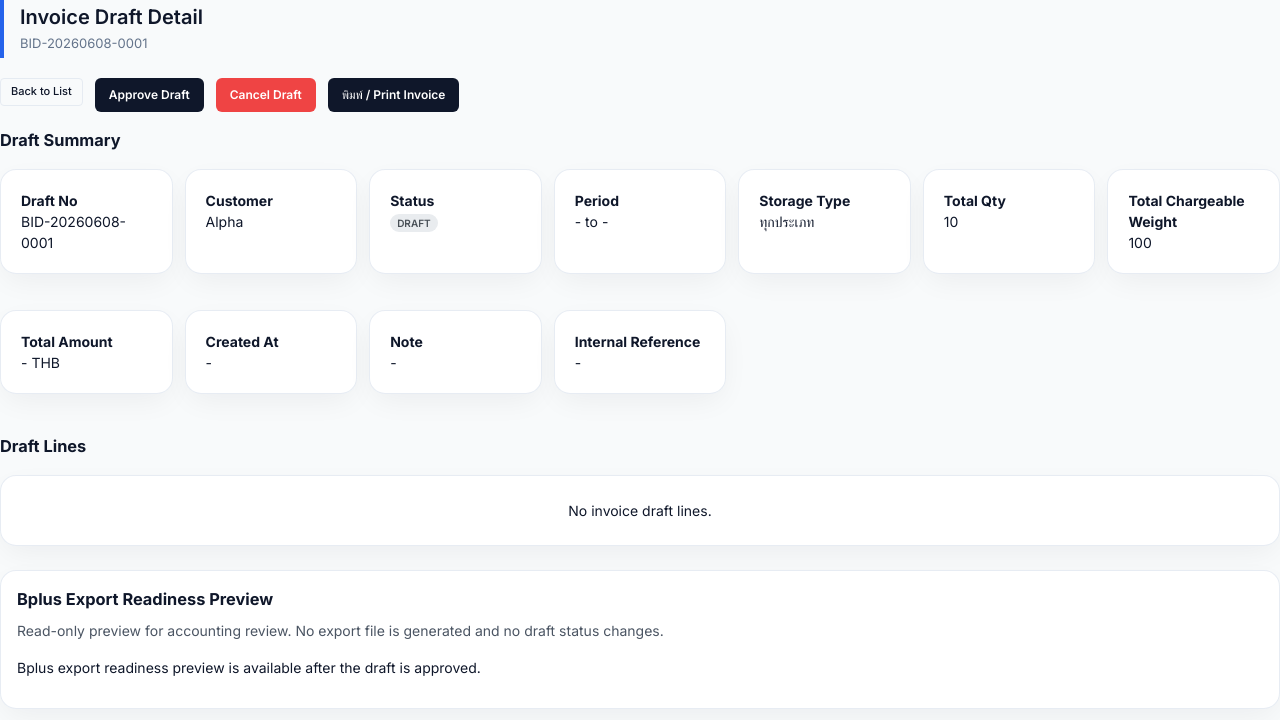
Test: Gate 3B-2 billing invoice draft UI › approves after confirmation, refreshes detail, and becomes read-only
The width and height of the screenshot is (1280, 720).
Click the button with test id "invoice-draft-approve-button": (149, 94) x1=95 y1=78 x2=204 y2=112
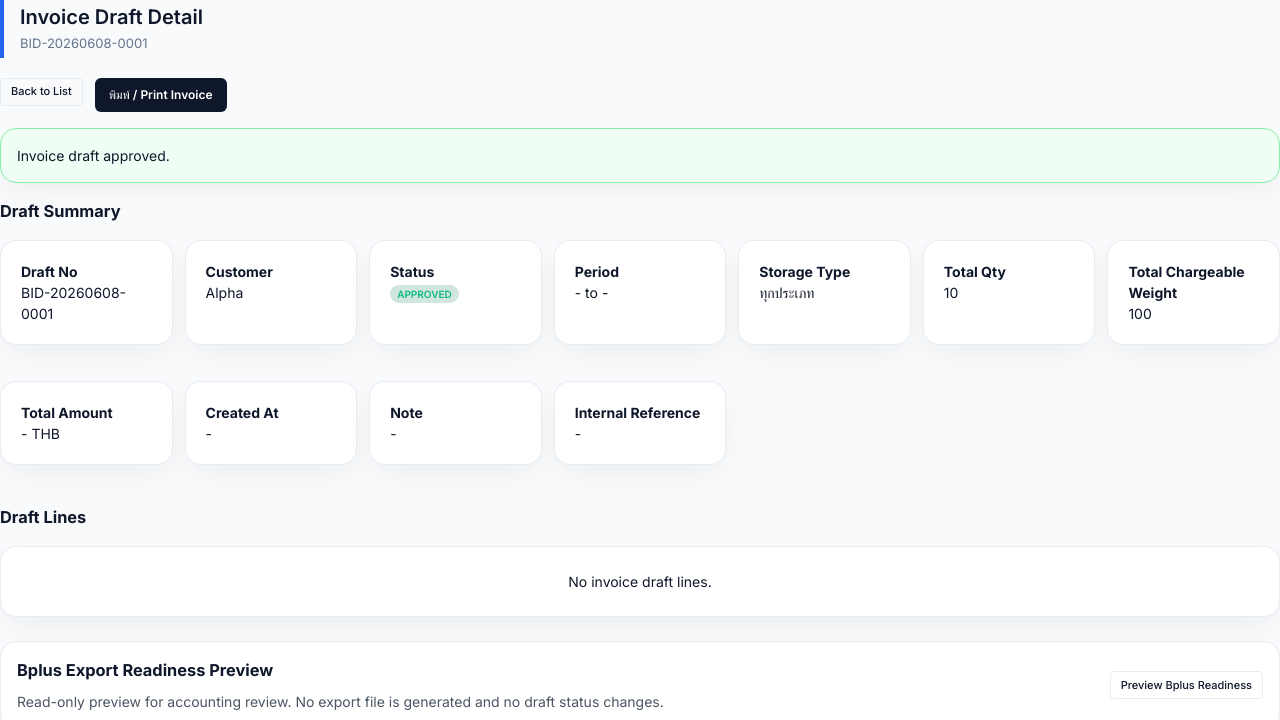
Check: the message "Invoice draft approved." is shown, box x1=0 y1=128 x2=1279 y2=182
Check: the text with test id "invoice-draft-status-badge" reads "APPROVED", box x1=397 y1=288 x2=452 y2=300
Check: the button with test id "invoice-draft-approve-button" is gone
